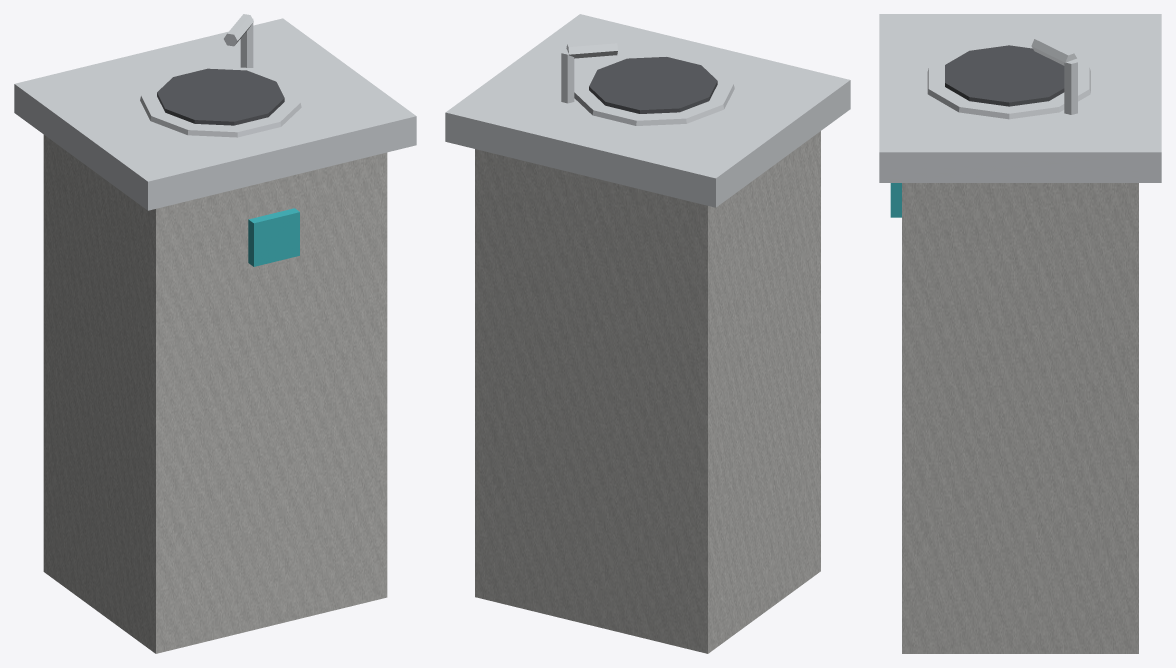
File: skate-park-and-street-sports-drinking-fountain-93ad8f23__33550.glb
3 views of the same model, side by side, from view 1: azimuth 30°, elevation 25°; view 2: azimuth 150°, elevation 25°; view 3: azimuth 270°, elevation 25° (orthographic). The views are drawn at different scales.
Parts seen in each view (by area): view 1: drinking-fountain-concrete, drinking-fountain-steel, drinking-fountain-charcoal, drinking-fountain-teal; view 2: drinking-fountain-concrete, drinking-fountain-steel, drinking-fountain-charcoal; view 3: drinking-fountain-concrete, drinking-fountain-steel, drinking-fountain-charcoal, drinking-fountain-teal.
Part boxes in pixels (x1,y1,x2,y2): drinking-fountain-concrete: (43, 135, 387, 653); drinking-fountain-steel: (14, 14, 416, 210); drinking-fountain-charcoal: (157, 68, 284, 125); drinking-fountain-teal: (248, 208, 299, 266); drinking-fountain-concrete: (475, 131, 820, 653); drinking-fountain-steel: (445, 14, 850, 207); drinking-fountain-charcoal: (589, 57, 717, 113); drinking-fountain-concrete: (902, 183, 1138, 653); drinking-fountain-steel: (879, 14, 1161, 182); drinking-fountain-charcoal: (945, 45, 1064, 106); drinking-fountain-teal: (890, 183, 901, 217).
Size of the model in its own units: 0.58 by 1.11 by 0.5.
4 materials, 1 textured.
